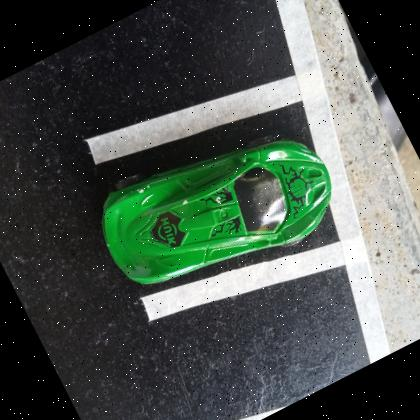Car: (101, 138, 332, 283)
